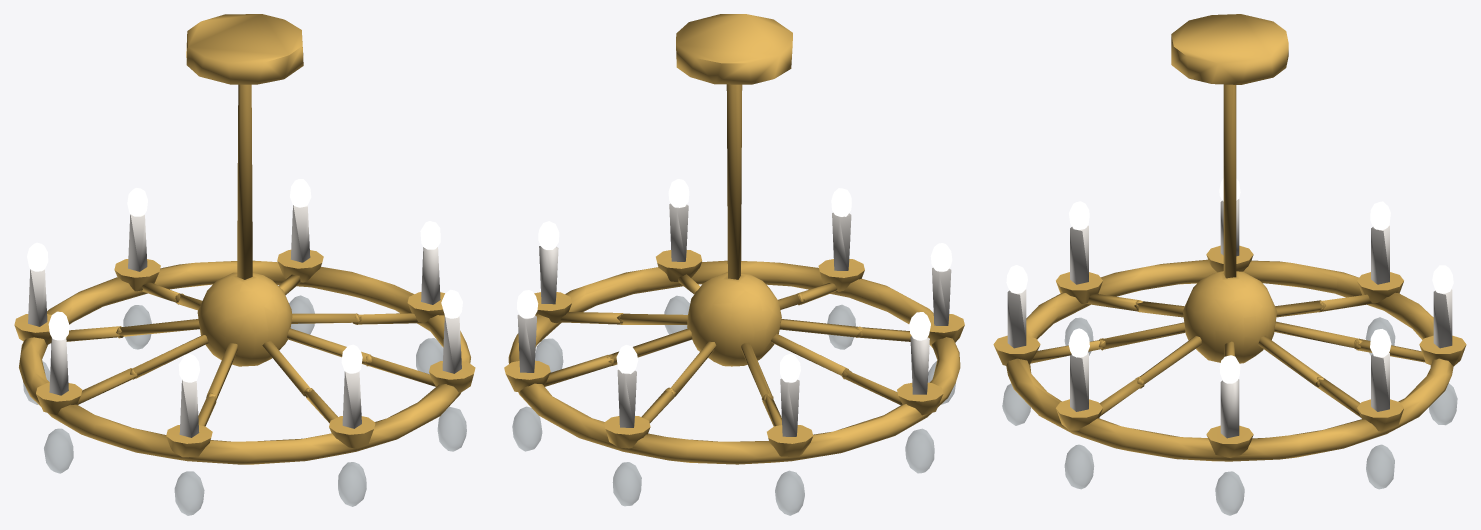
The model's file is gift-celeste.glb.
3 renders of one model, left to right at view 1: azimuth 30°, elevation 25°; view 2: azimuth 150°, elevation 25°; view 3: azimuth 270°, elevation 25°, orthographic.
Visible parts, largest first — view 1: gift-celeste; view 2: gift-celeste; view 3: gift-celeste.
Boxes of the visible parts, <box> form: gift-celeste: <box>14,14,475,515</box>; gift-celeste: <box>504,14,964,515</box>; gift-celeste: <box>993,14,1466,515</box>.
Size of the model in its own units: 0.7961 by 0.7201 by 0.8.
